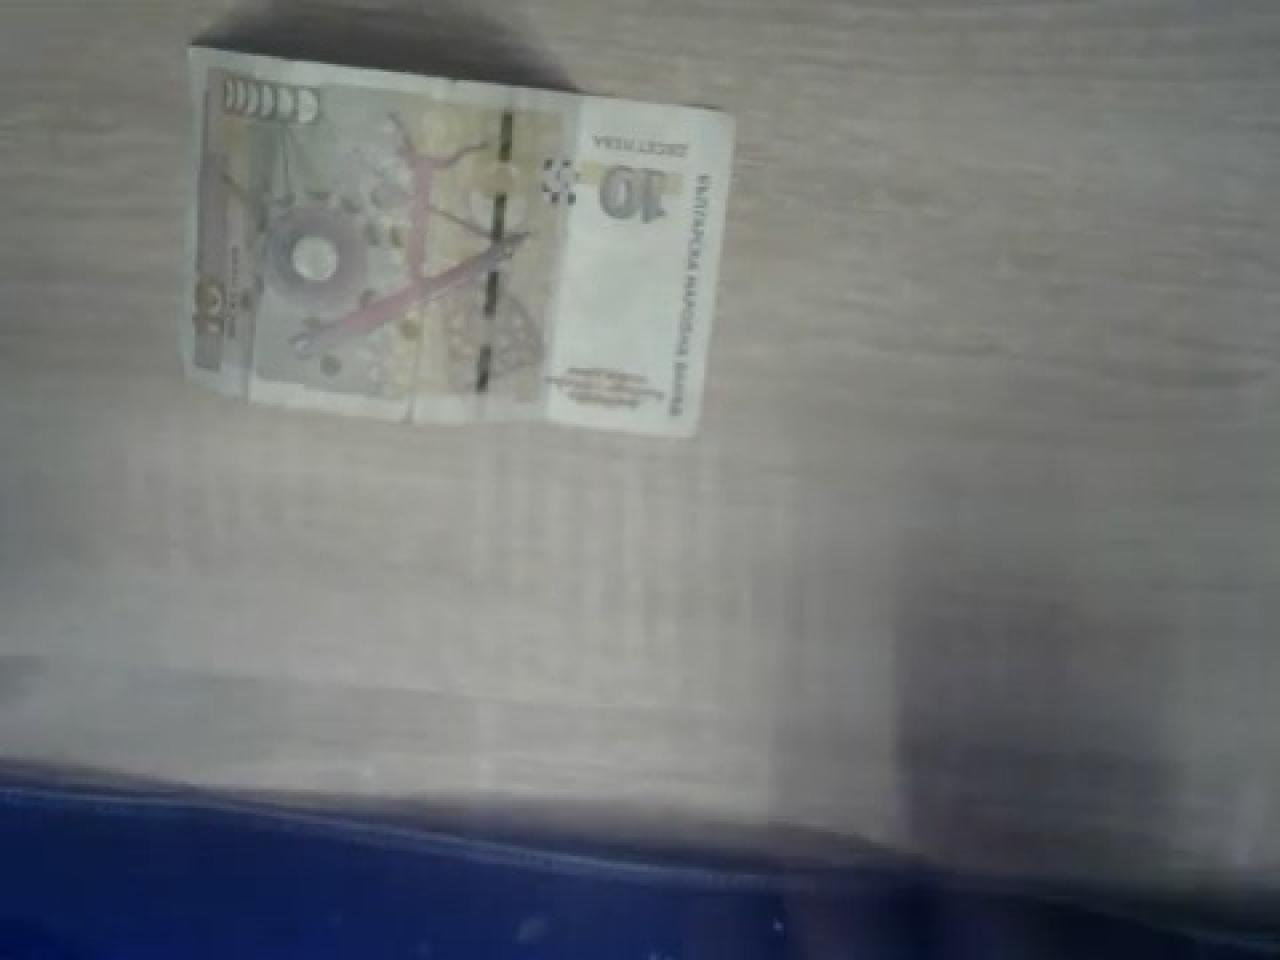10leva: (178, 40, 739, 438)
